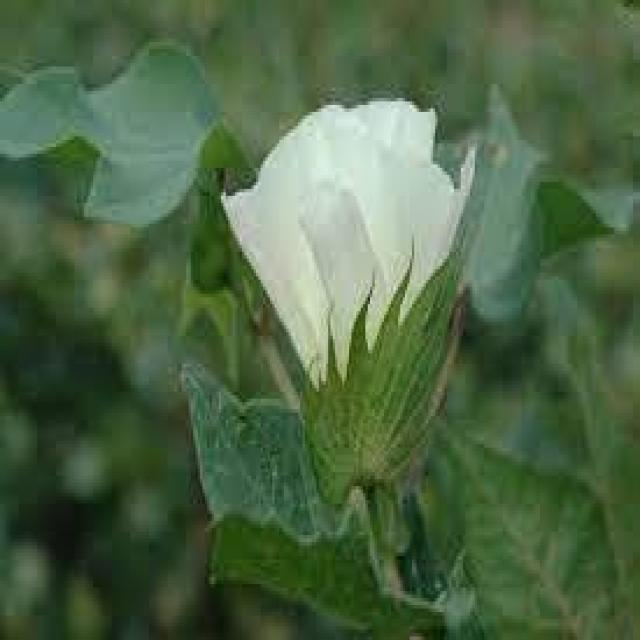Cotton Blossom: (215, 92, 490, 558)
